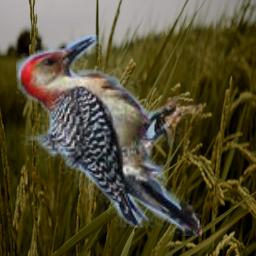Woodpecker: (16, 35, 202, 236)
